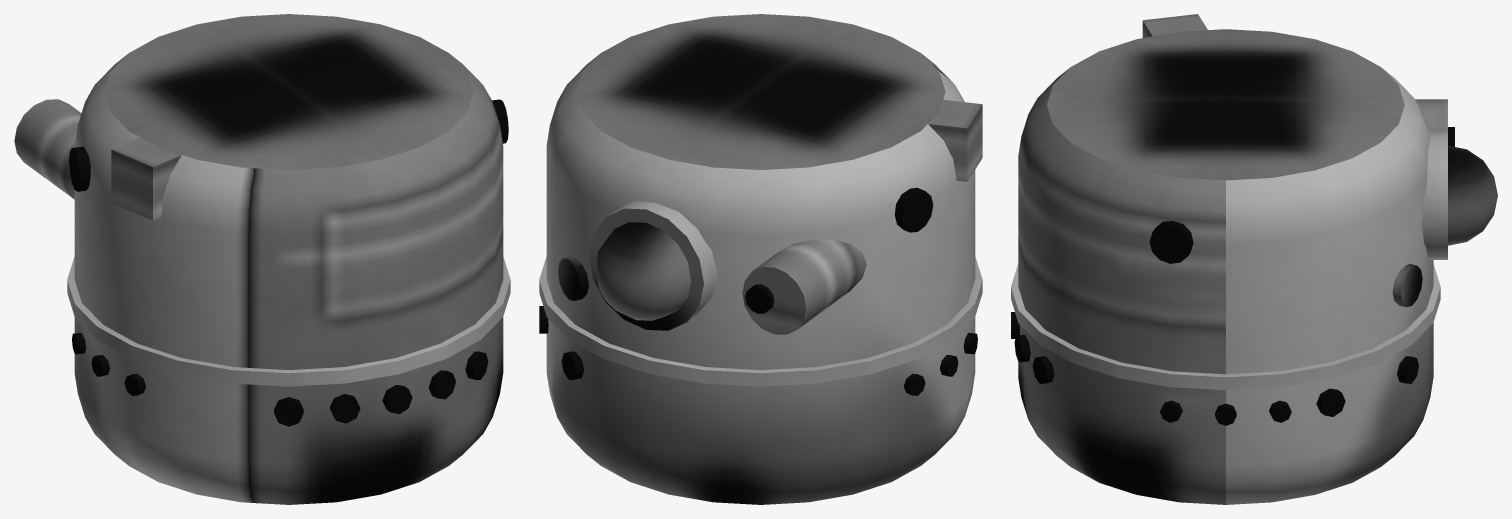
The model's file is avionics.obj.
3 views of the same model, side by side, from view 1: azimuth 30°, elevation 25°; view 2: azimuth 150°, elevation 25°; view 3: azimuth 270°, elevation 25° (orthographic). The views are drawn at different scales.
Visible parts, largest first — view 1: avionics; view 2: avionics, avionics_lense; view 3: avionics, avionics_lense.
Boxes of the visible parts, left/top/right/bottom form: avionics: left=14, top=14, right=510, bottom=504; avionics: left=539, top=14, right=982, bottom=504; avionics_lense: left=595, top=222, right=690, bottom=320; avionics: left=1011, top=14, right=1454, bottom=504; avionics_lense: left=1448, top=145, right=1497, bottom=245.
Bounding box in the file's own units: 0.7502 × 0.6375 × 0.85.
